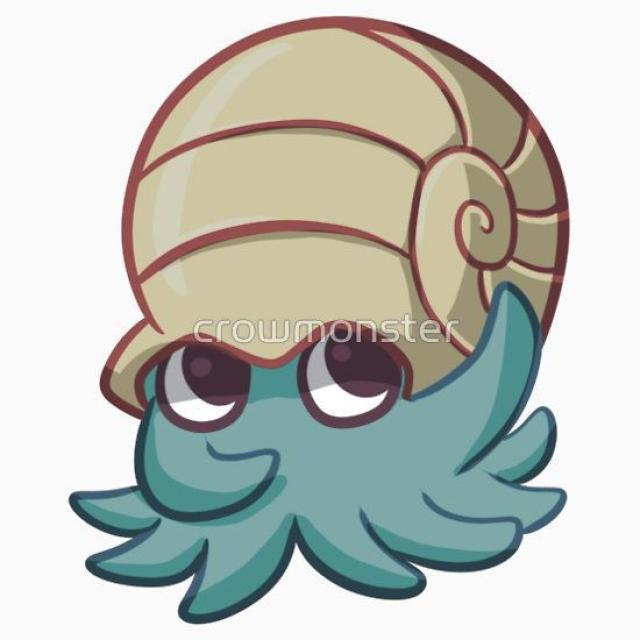Omanyte: (108, 20, 568, 590)
